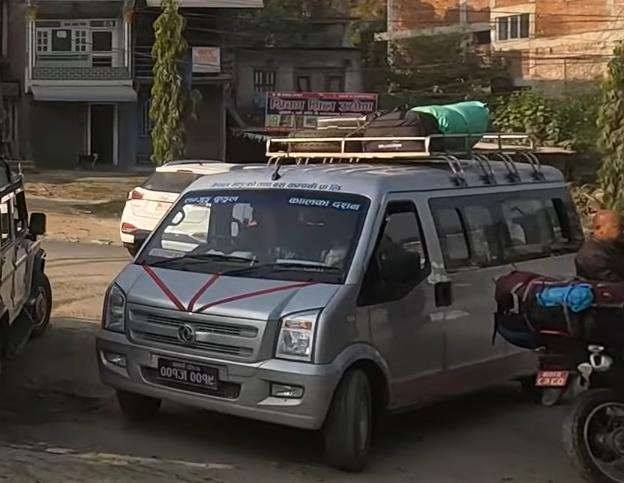micro_bus: (96, 139, 593, 463)
